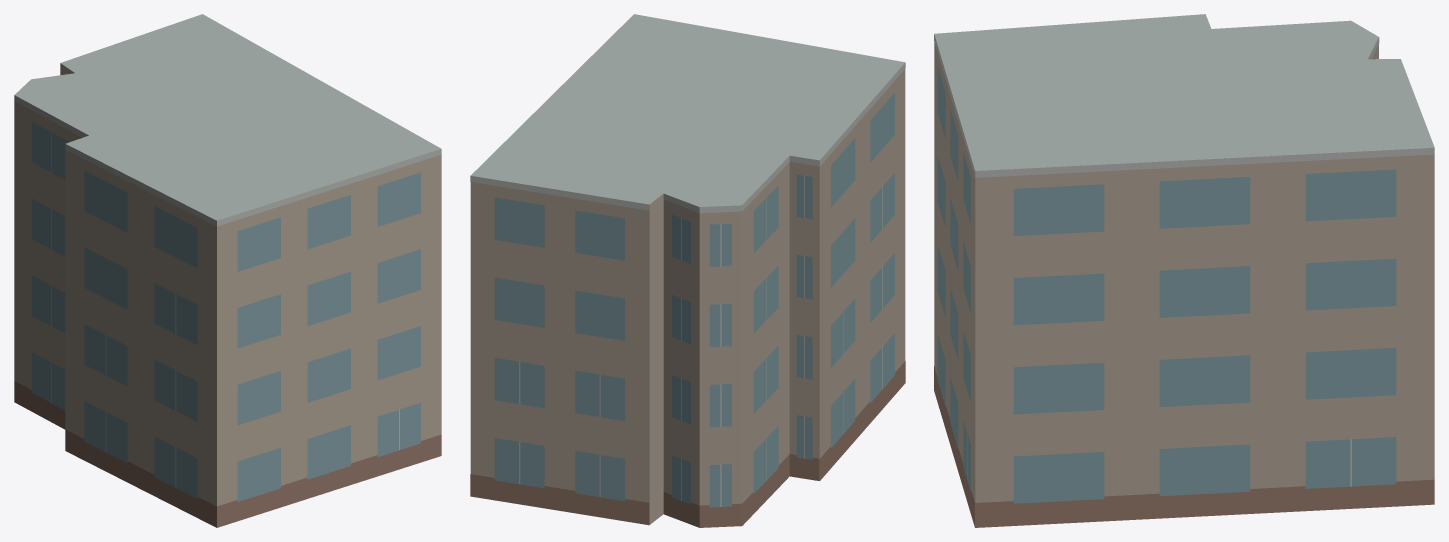
The model's file is survey-upis-32637544.glb.
The picture shows the model from 3 angles, left to right: view 1: azimuth 30°, elevation 25°; view 2: azimuth 150°, elevation 25°; view 3: azimuth 270°, elevation 25°; orthographic projection. The views are drawn at different scales.
Visible parts, largest first — view 1: survey-upis-32637544.tmp; view 2: survey-upis-32637544.tmp; view 3: survey-upis-32637544.tmp.
Part boxes in pixels (x1,y1,x2,y2): survey-upis-32637544.tmp: (14,14,441,527); survey-upis-32637544.tmp: (470,14,905,527); survey-upis-32637544.tmp: (934,14,1434,527).
Size of the model in its own units: 12.1 by 12.8 by 16.29.
